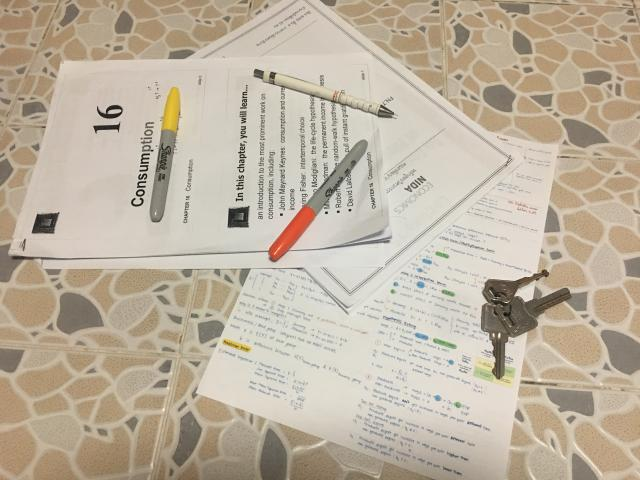Keys: (481, 270, 570, 381)
Pen: (269, 140, 368, 260), (254, 70, 394, 118), (150, 88, 180, 222)
paper: (10, 0, 558, 479)
